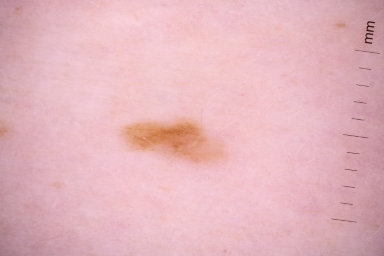melanoma: (121, 122, 222, 164)
